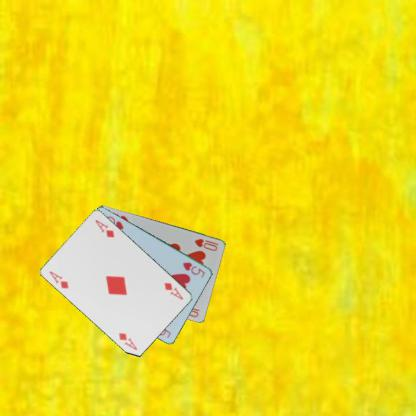10h: (192, 236, 220, 252)
5h: (180, 260, 206, 278)
Ad: (47, 268, 70, 290), (162, 280, 185, 301)
